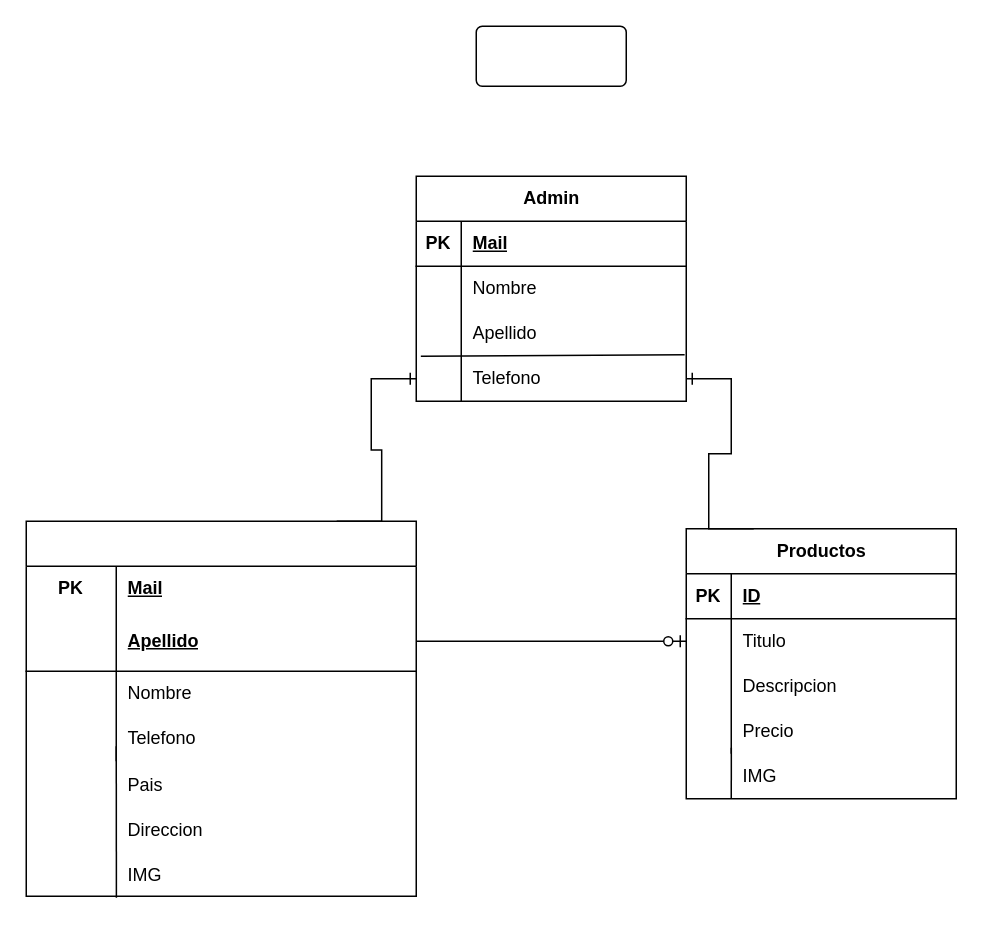
Some shapes in this 983 by 926 pixel diagram are drawn without their labels. The box of each missing label's shape, as (x1, y1, x2, y2) in pixels:
MammaMia: (475, 25, 626, 86)
Usuarios: (25, 520, 416, 896)
